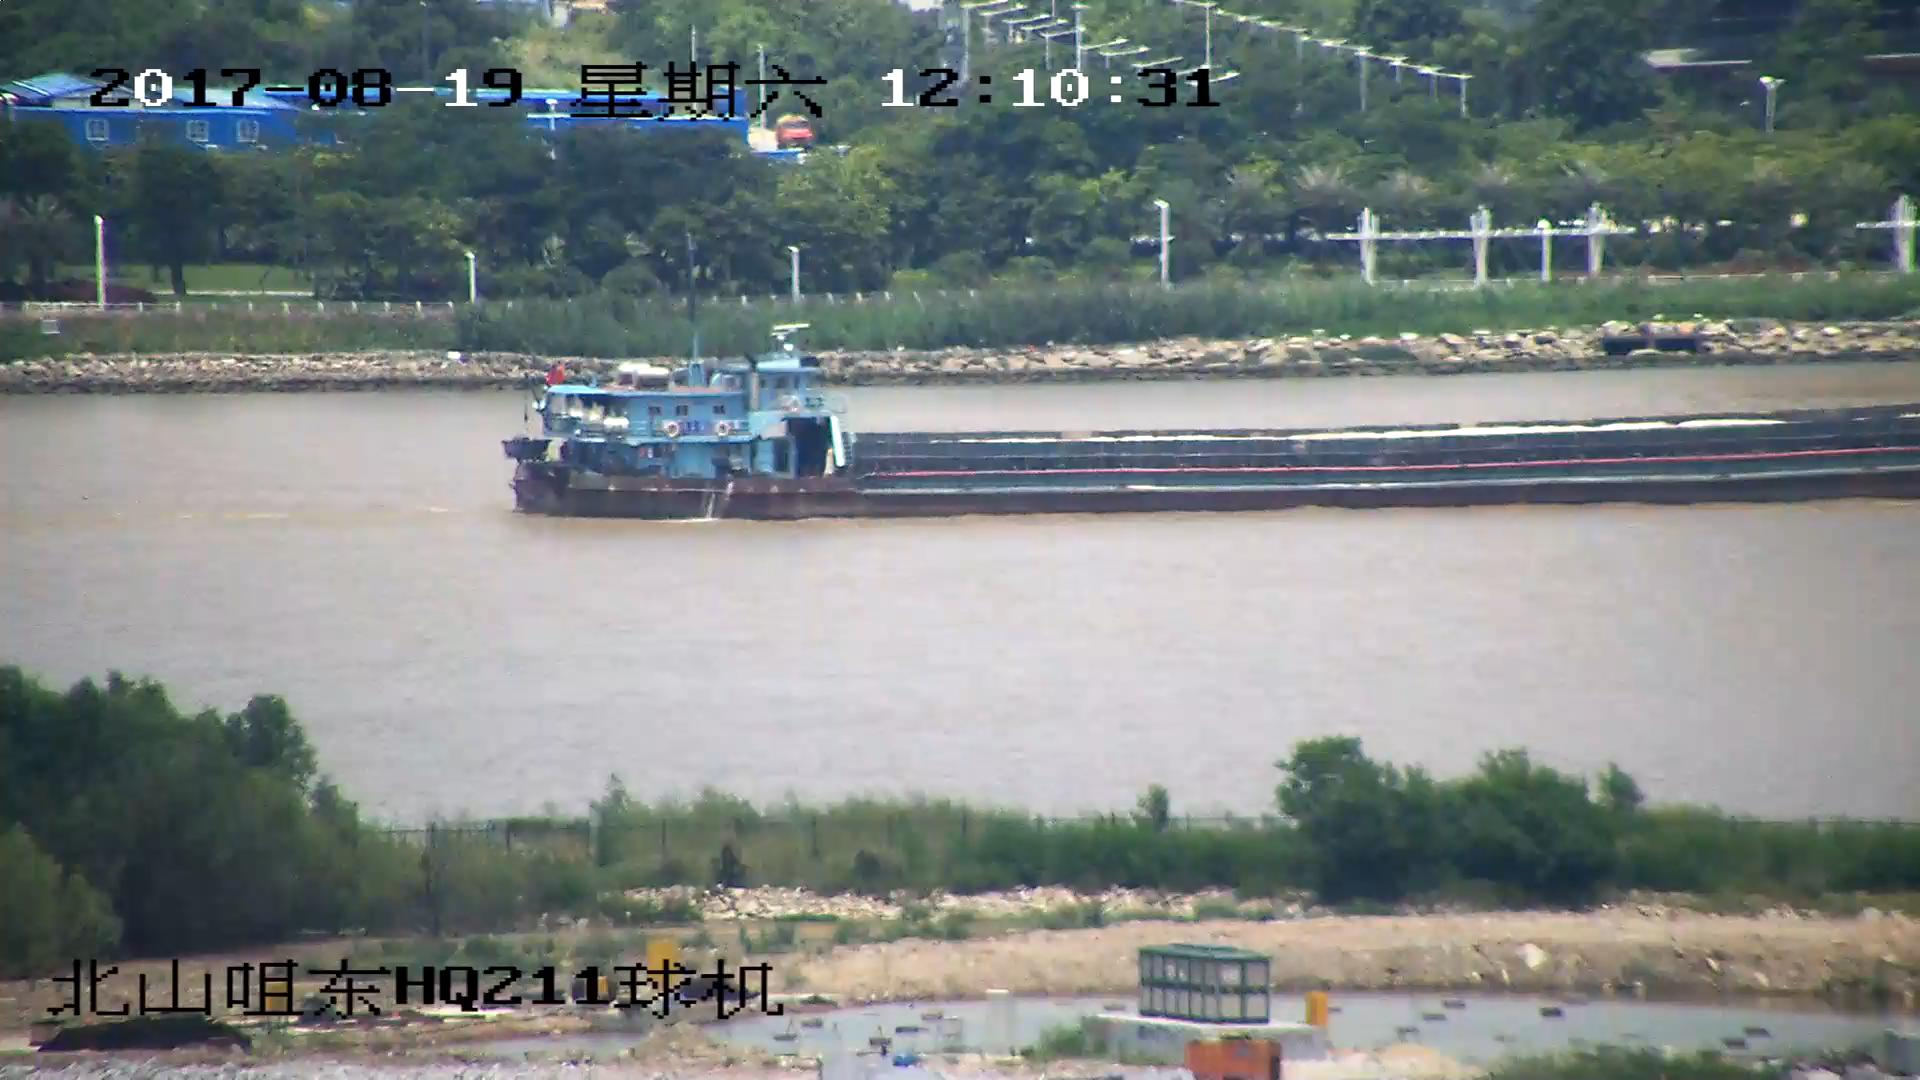bulk cargo carrier: (504, 314, 1920, 520)
